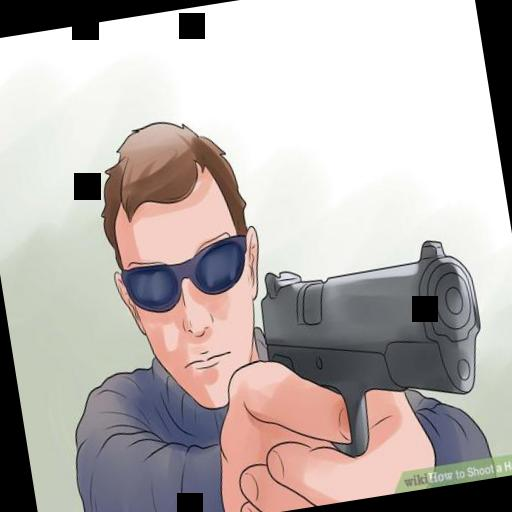Handgun: (242, 234, 498, 468)
